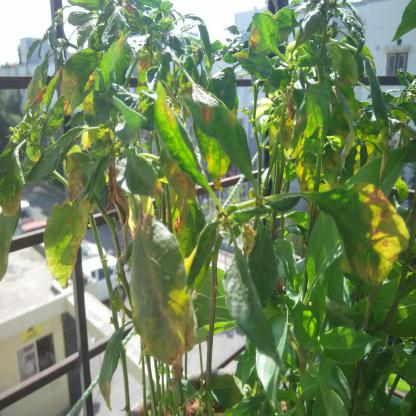Bell_pepper leaf spot: (297, 178, 410, 289), (130, 202, 192, 365), (152, 82, 221, 203), (186, 71, 255, 188), (162, 148, 204, 256), (42, 197, 88, 293), (363, 56, 392, 188), (60, 50, 106, 120), (96, 322, 130, 416), (293, 80, 334, 144), (238, 12, 285, 59), (0, 141, 25, 222), (61, 150, 95, 209), (124, 149, 166, 195), (227, 48, 279, 82)
